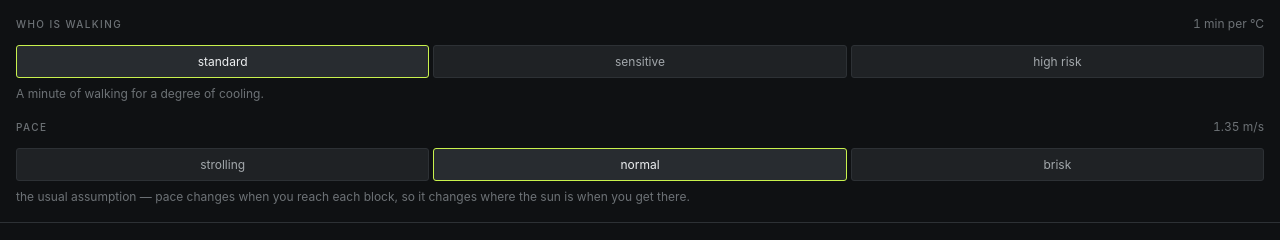
Test case: HeatProfile › switching profile changes the number, and says who it is for
The width and height of the screenshot is (1280, 240).
What coordinates should you click on to do the following:
click the button "high risk"
I would click on:
 (1057, 62)
Its box is x1=851 y1=45 x2=1264 y2=78.
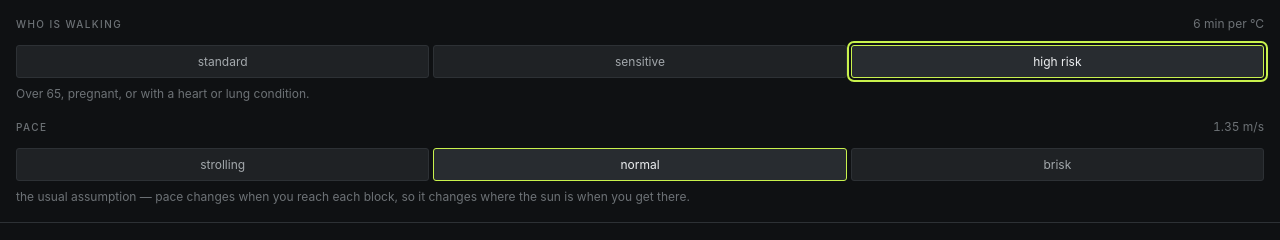
Expected: the text "6 min per °C" is shown, x1=1193 y1=16 x2=1264 y2=33
Expected: the text "Over 65, pregnant, or with a heart or lung condition." is shown, x1=16 y1=86 x2=310 y2=101
